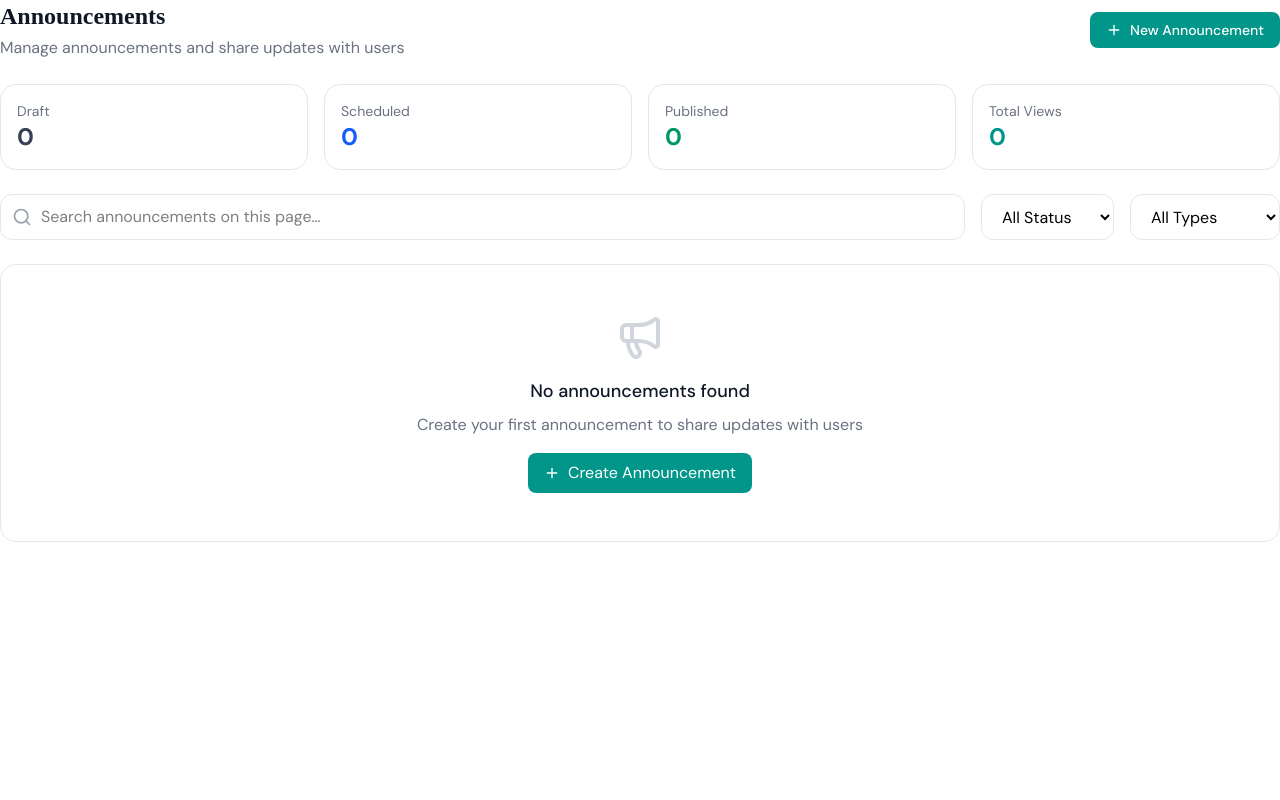
Test case: FE-04 Announcements save validation › hostile imageUrl (evil host) blocks the save with an inline error
Click the button "New Announcement" at (1185, 30), box [1090,12,1279,48]
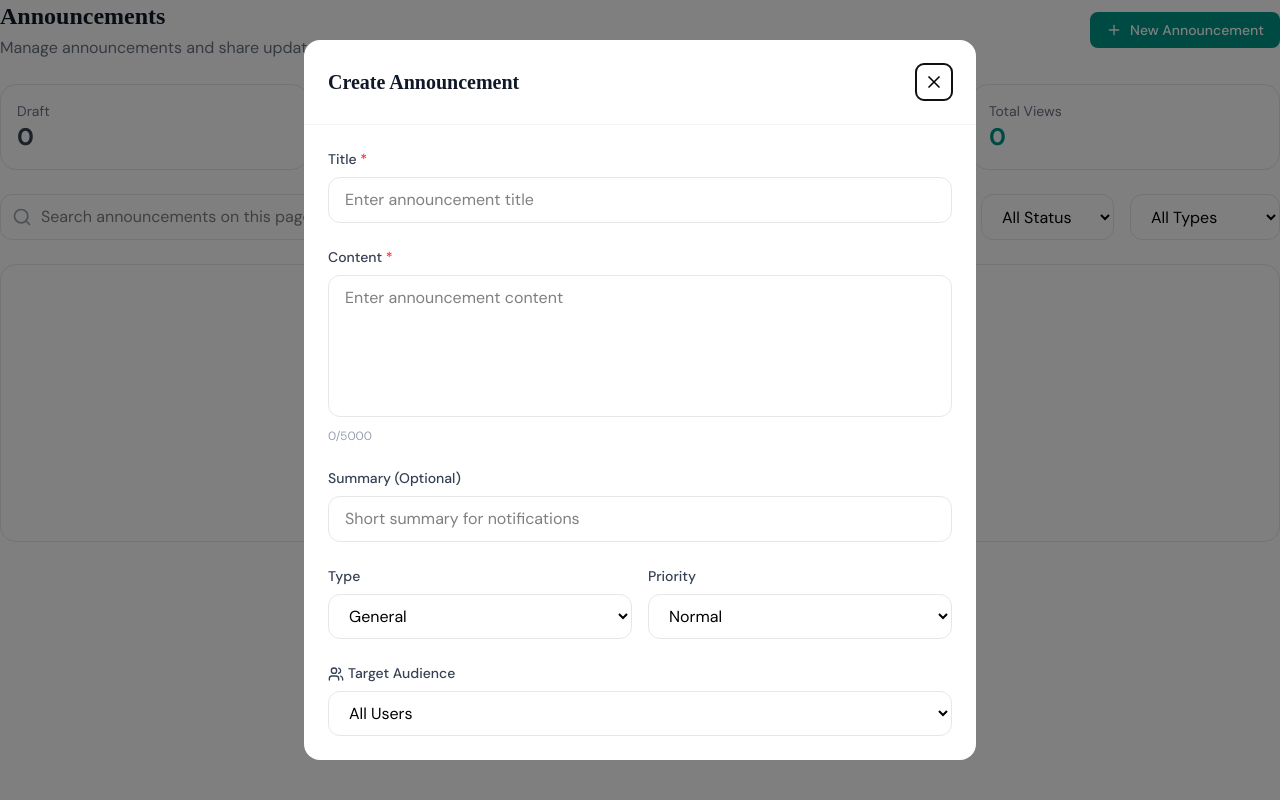
Type "Sale" into the field with placeholder "Enter announcement title" at (640, 200), box [328,177,952,223]
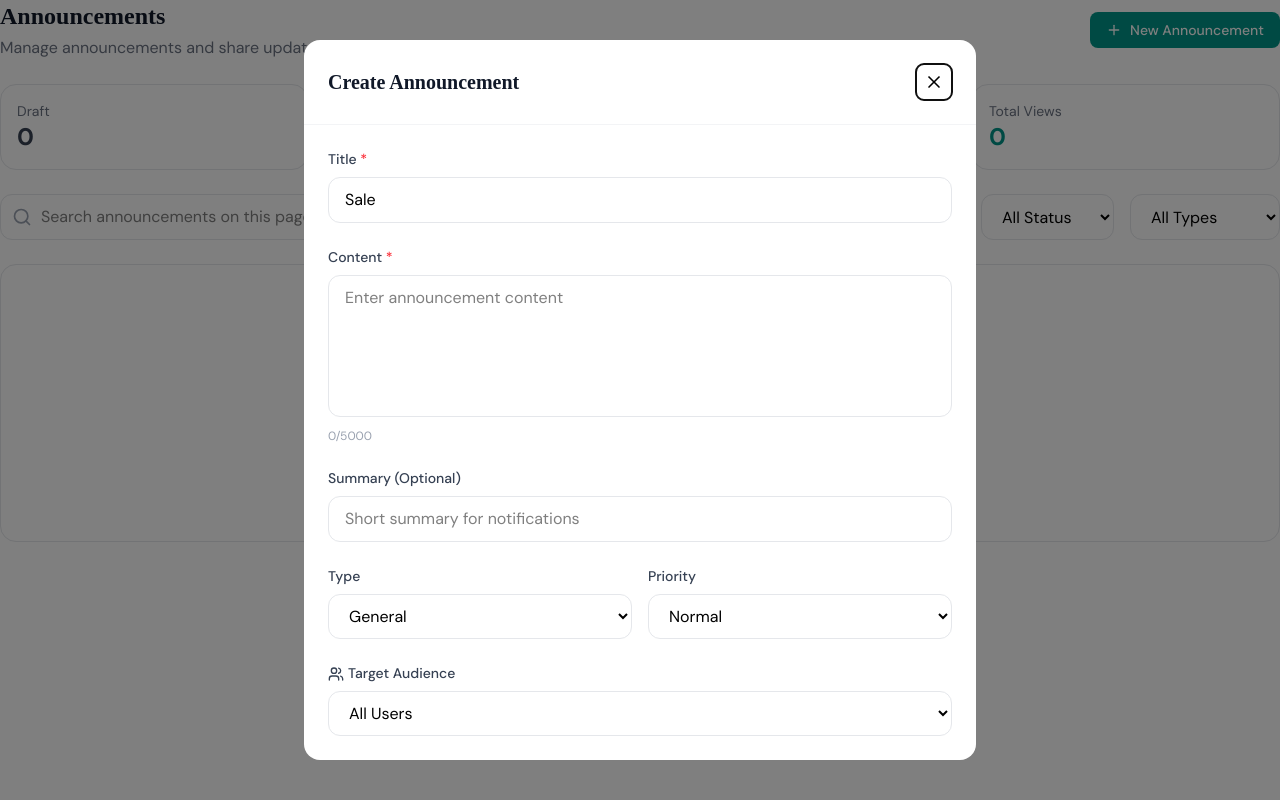
Type "Big sale this week" into the text box with placeholder "Enter announcement content" at (640, 346), box [328,275,952,417]
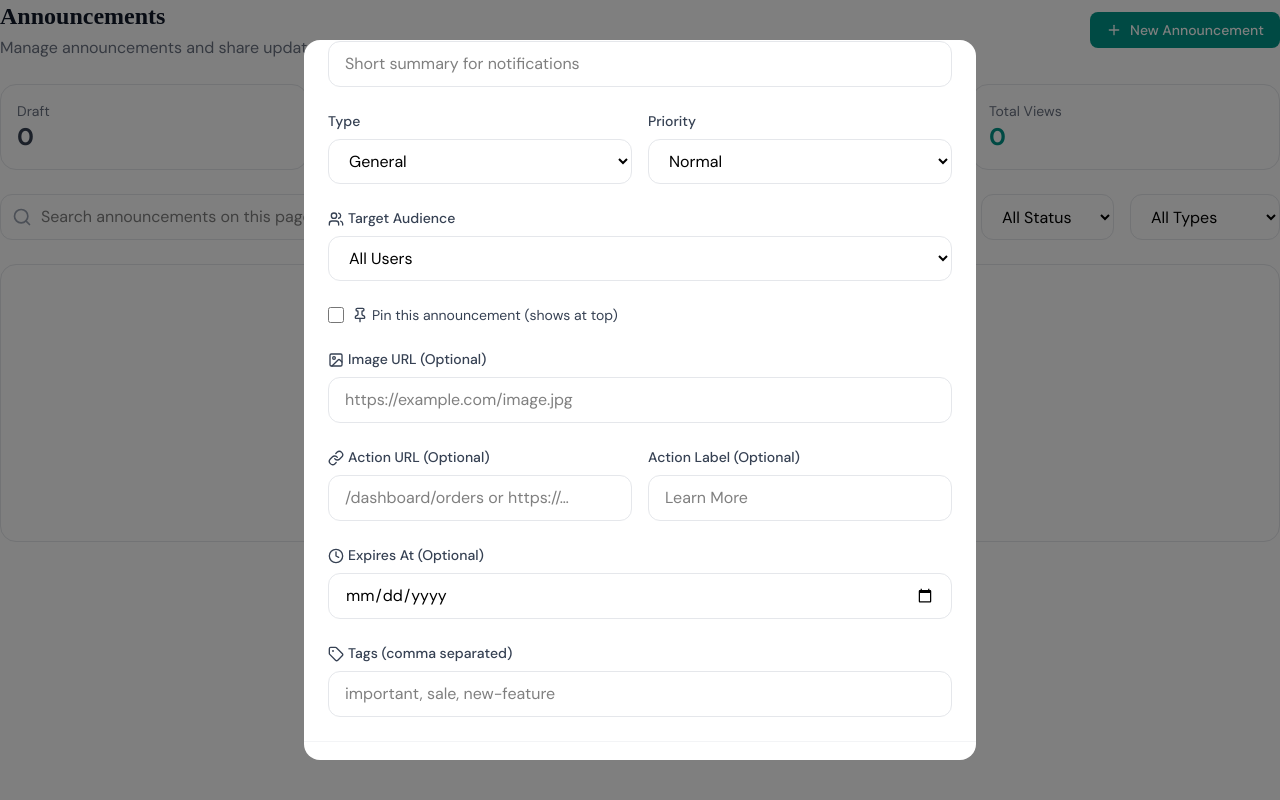
Type "https://evil.com/banner.jpg" into the field with placeholder "https://example.com/image.jpg" at (640, 400), box [328,377,952,423]
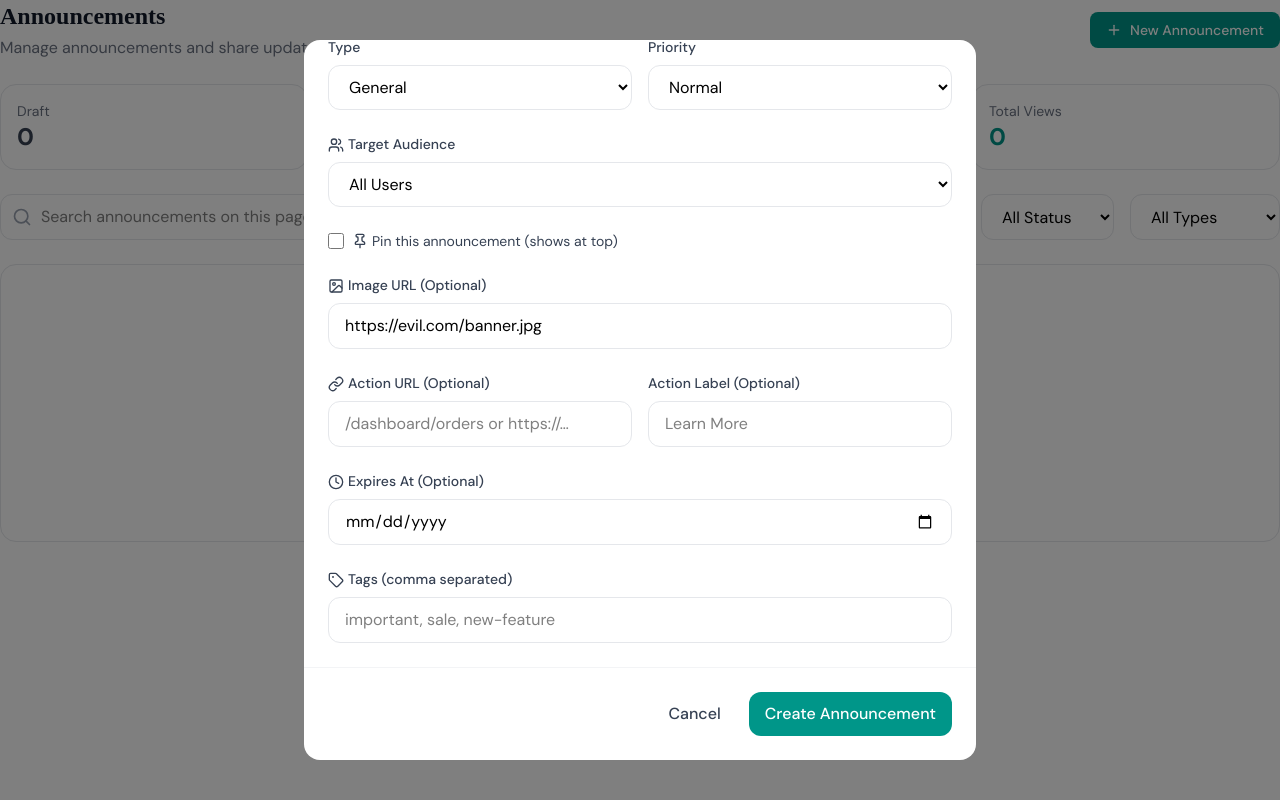
Click the button "Create Announcement" at (850, 714), box [749,692,952,736]
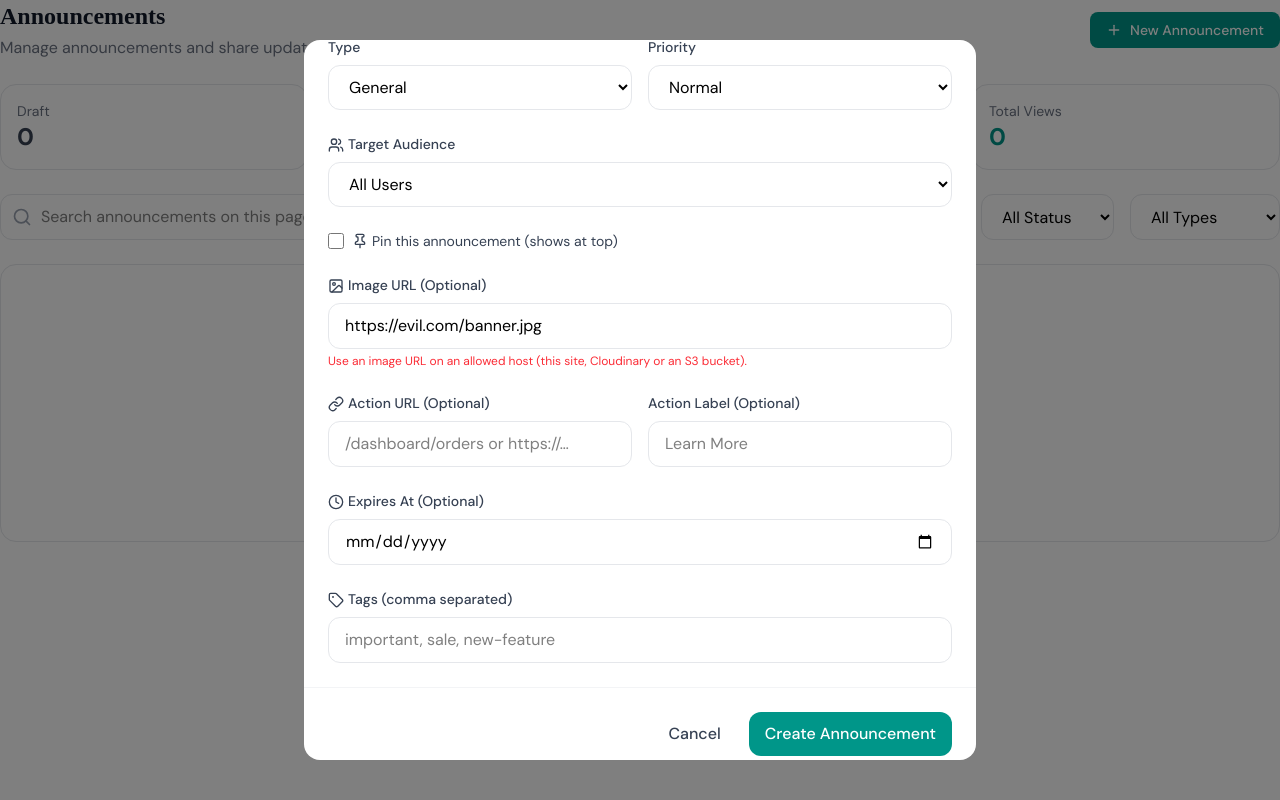
Now the message shows "allowed host", box [328,353,747,369]
